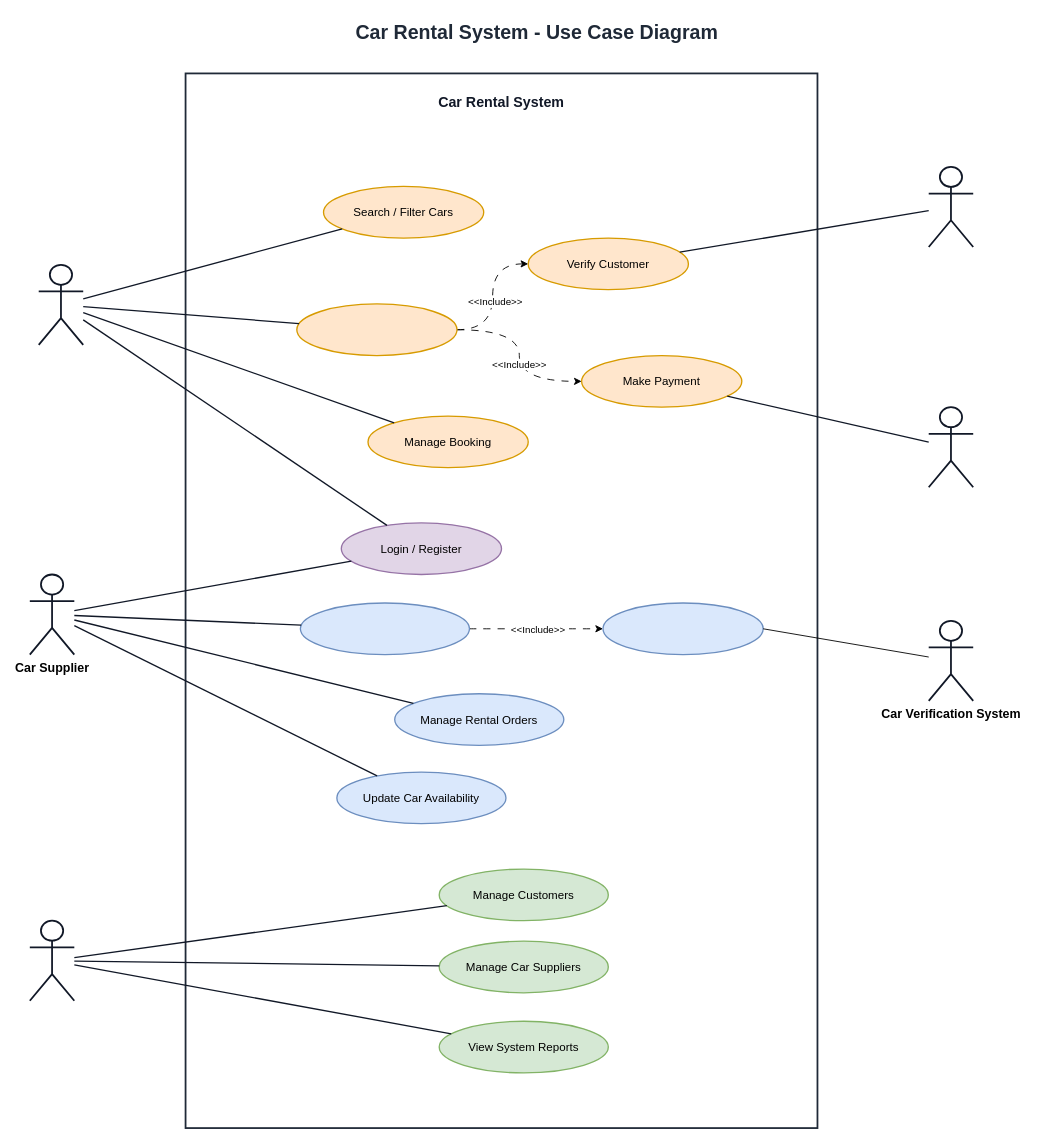
Some shapes in this 1048 by 1144 pixel diagram are drawn without their labels. Here are the shapes that lost their labels. From the top down, the centre of each, then its label:
At [950,206]: "Identity Verification System".
At [60,304]: "Customer".
At [376,329]: "Book Car".
At [950,447]: "Payment System".
At [384,628]: "Manage Cars".
At [682,628]: "Verify Car".
At [51,960]: "Admin".
